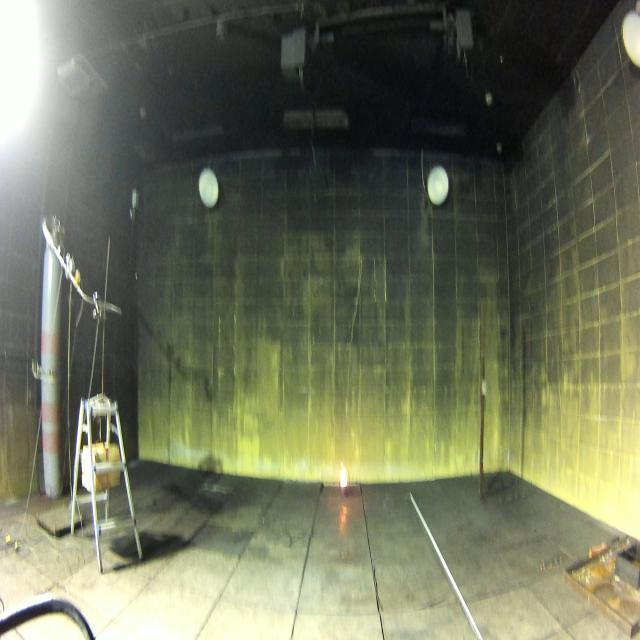Fire: (340, 461, 347, 487)
